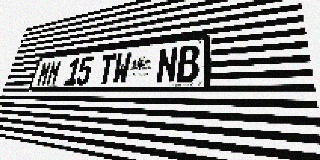1: (64, 58, 82, 85)
5: (75, 56, 94, 85)
B: (176, 44, 200, 83)
M: (45, 60, 62, 86), (36, 61, 52, 86)
N: (156, 47, 178, 83)
T: (97, 54, 117, 85)
W: (111, 52, 132, 84)
